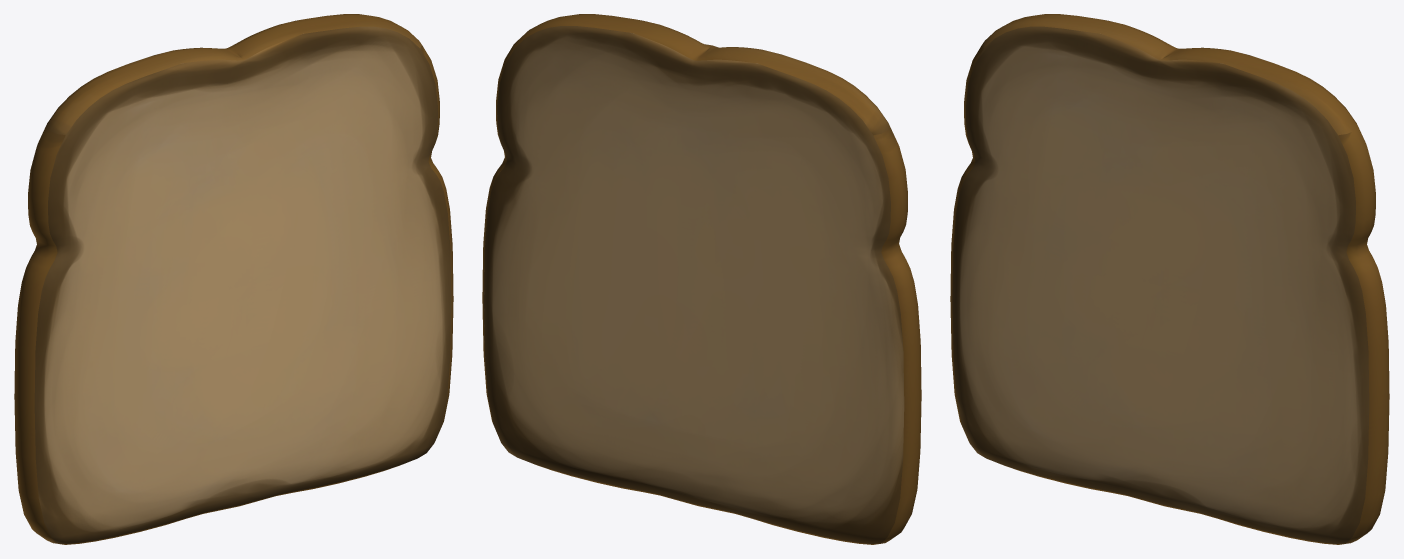
The model's file is Bread.fbx.
3 views of the same model, side by side, from view 1: azimuth 30°, elevation 25°; view 2: azimuth 150°, elevation 25°; view 3: azimuth 330°, elevation 25° (orthographic).
Visible parts, largest first — view 1: Body; view 2: Body; view 3: Body.
Boxes of the visible parts, <box> form: Body: <box>14,14,453,544</box>; Body: <box>482,14,921,544</box>; Body: <box>950,14,1389,544</box>.
Bounding box in the file's own units: 188 × 192 × 15.47.
